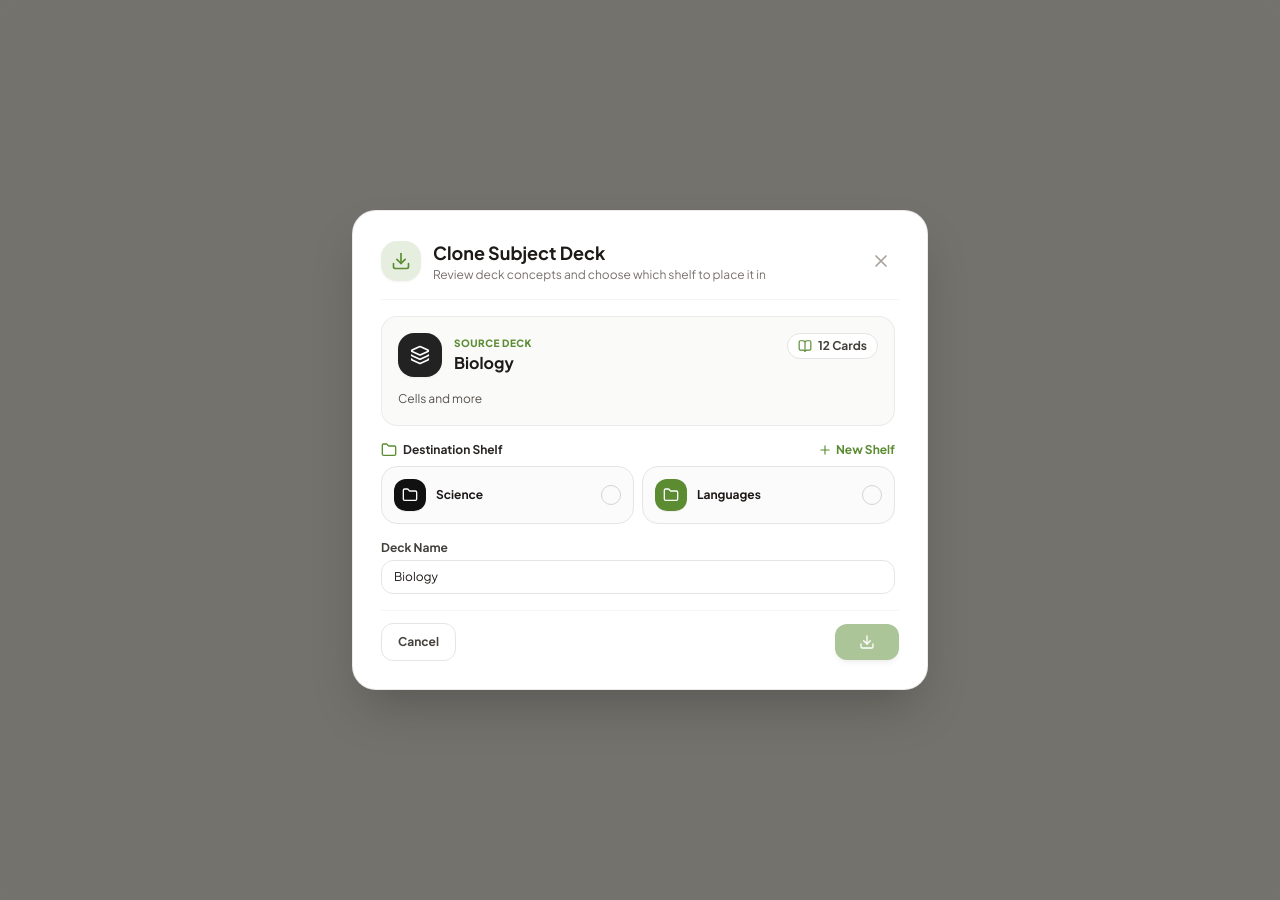
Test case: CloneSubjectModal › disables confirm until a shelf is chosen and a title exists
Expected: the button with test id "btn-confirm-clone" is disabled, [835,624,899,660]
Click the button with test id "clone-shelf-sh1" at (508, 495), box [381,466,634,524]
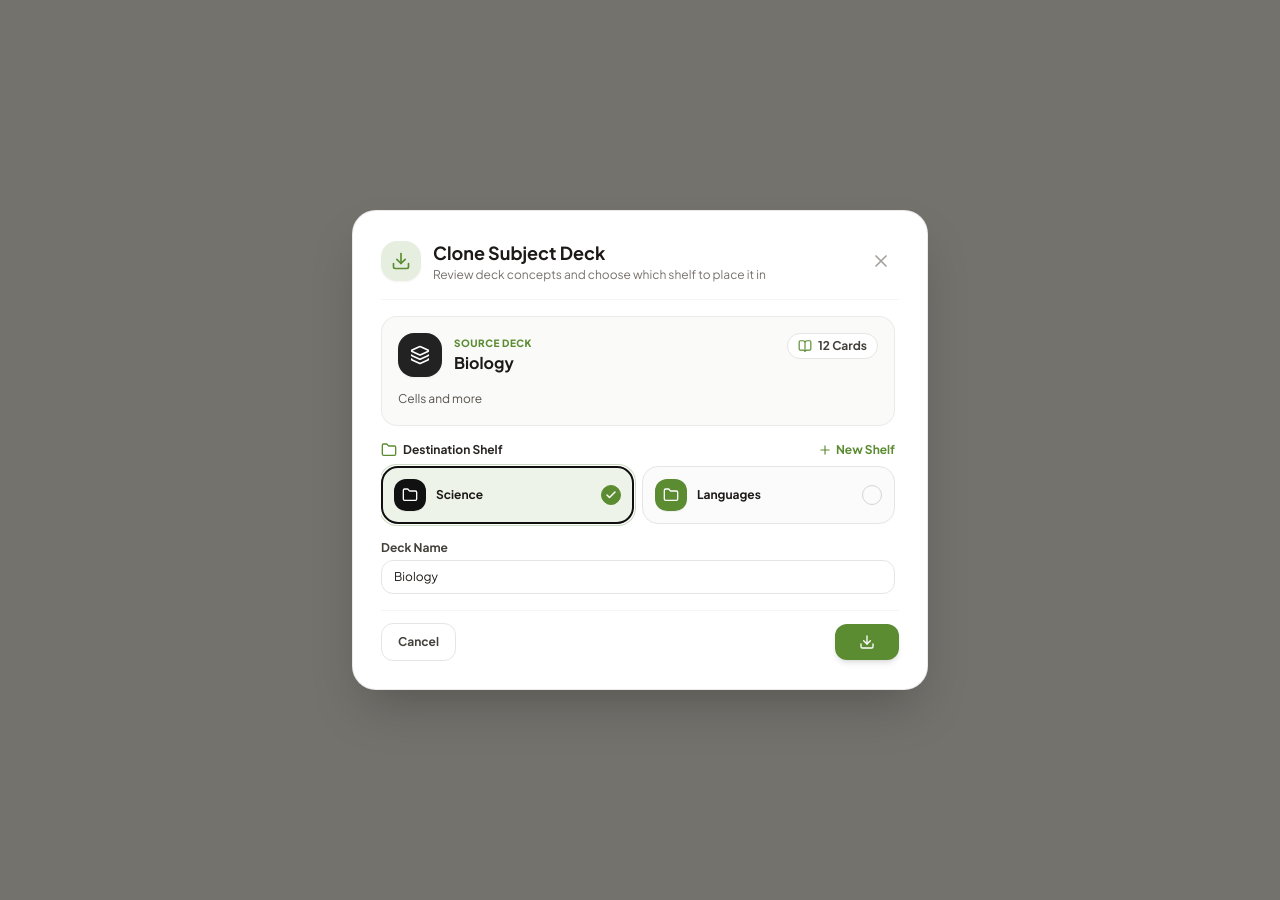
Expected: the button with test id "btn-confirm-clone" is enabled, [835,624,899,660]
Clear the field with test id "clone-title-input" at (638, 577), box [381,560,895,594]
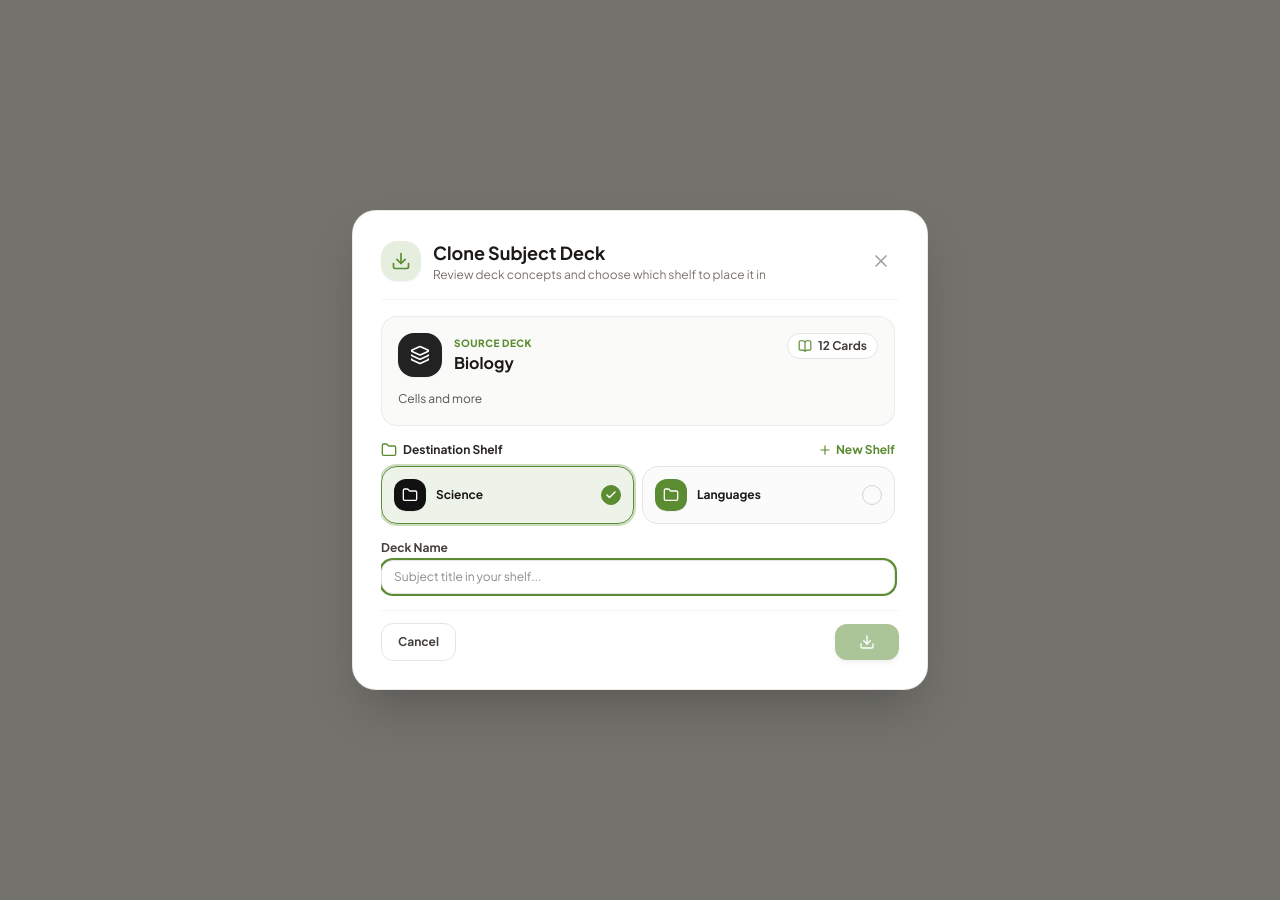
Expected: the button with test id "btn-confirm-clone" is disabled, [835,624,899,660]
